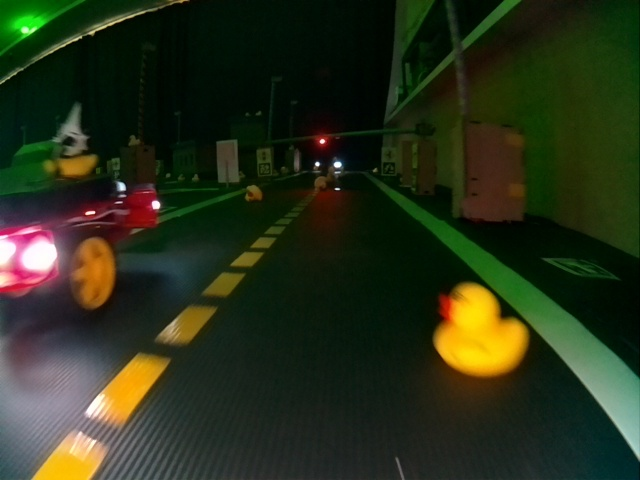Duckie: (432, 285, 529, 376), (245, 185, 261, 202), (314, 176, 328, 189)
Duckiebot: (0, 175, 160, 310)
Intersection sign: (383, 148, 397, 161)
QR code: (545, 257, 613, 279), (382, 162, 397, 175), (258, 163, 271, 175)
Signal sign: (257, 149, 270, 162)
Traffic light: (318, 137, 327, 147)
